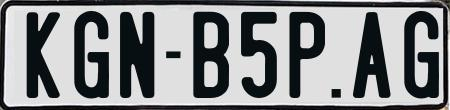5: (238, 9, 274, 101)
A: (351, 11, 390, 103)
B: (193, 10, 232, 101)
G: (73, 8, 111, 101), (402, 8, 433, 100)
K: (24, 10, 59, 98)
N: (120, 12, 155, 104)
P: (286, 12, 323, 102)
